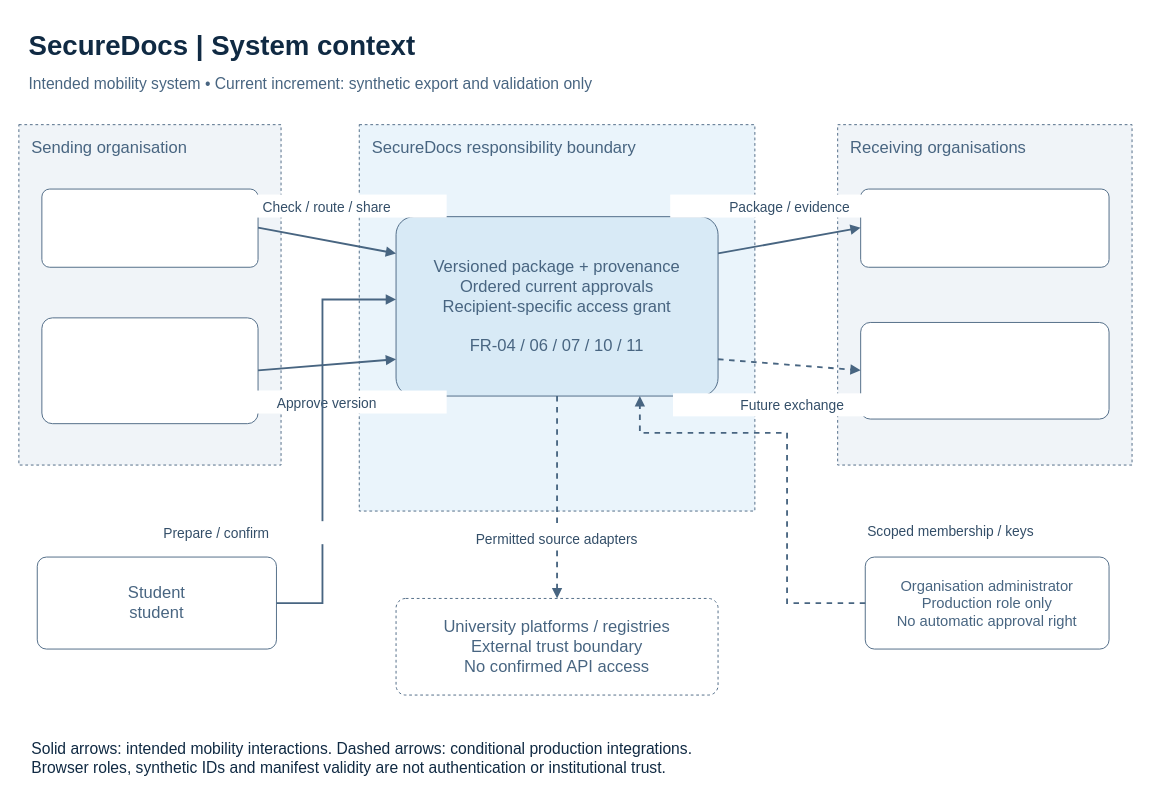
Some shapes in this 1150 by 811 pixel diagram are drawn without their labels. Each missing label, with the centre of its shape:
Academic adviser / Dean Registrar adviser → dean → registrar: the point at 149,370
Coordinator coordinator: the point at 149,227
Receiving staff recipient: the point at 984,227
Third organisation Final-project objective Not in current demo: the point at 984,370
